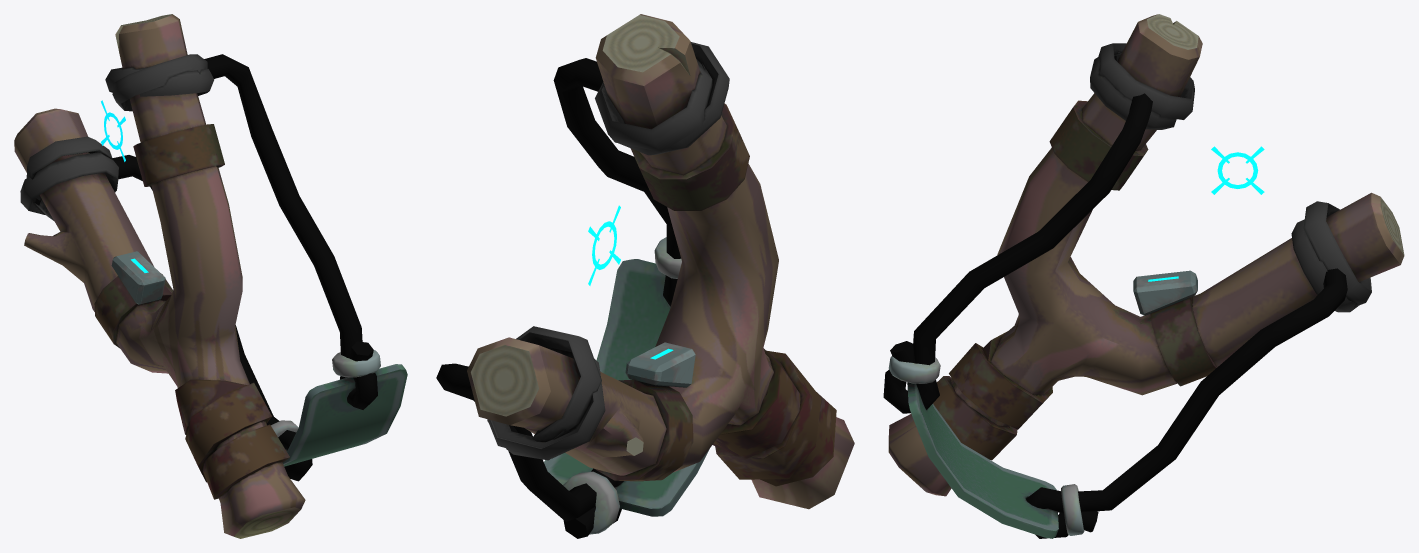
Rendered from weapon-slingshot1-pickup.glb.
The picture shows the model from 3 angles, left to right: view 1: azimuth 30°, elevation 25°; view 2: azimuth 150°, elevation 25°; view 3: azimuth 270°, elevation 25°; orthographic projection. The views are drawn at different scales.
Parts seen in each view (by area): view 1: weapon-slingshot1-PICKUP; view 2: weapon-slingshot1-PICKUP; view 3: weapon-slingshot1-PICKUP.
Boxes of the visible parts, x1=… form: weapon-slingshot1-PICKUP: x1=14, y1=14, x2=407, y2=538; weapon-slingshot1-PICKUP: x1=436, y1=14, x2=854, y2=538; weapon-slingshot1-PICKUP: x1=883, y1=14, x2=1404, y2=538.
Bounding box in the file's own units: 0.247 × 0.5256 × 0.526.
2 materials, 1 textured.
